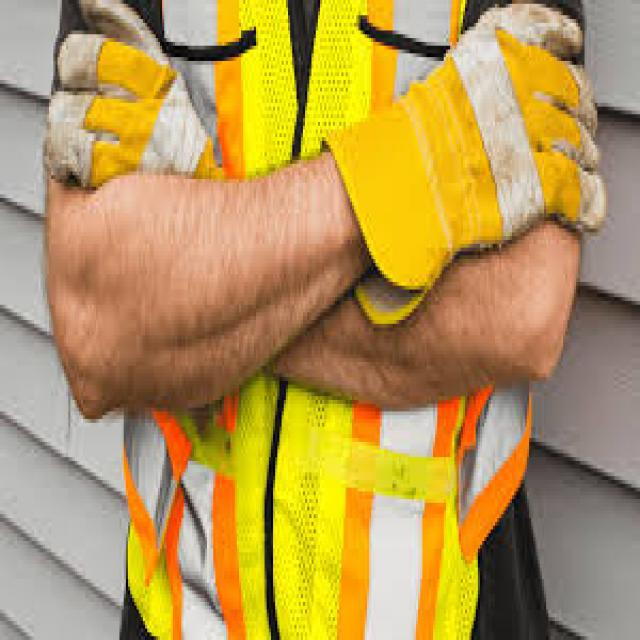Reflective-Jacket: (64, 23, 555, 636)
Safety-Helmet: (309, 23, 610, 320)
